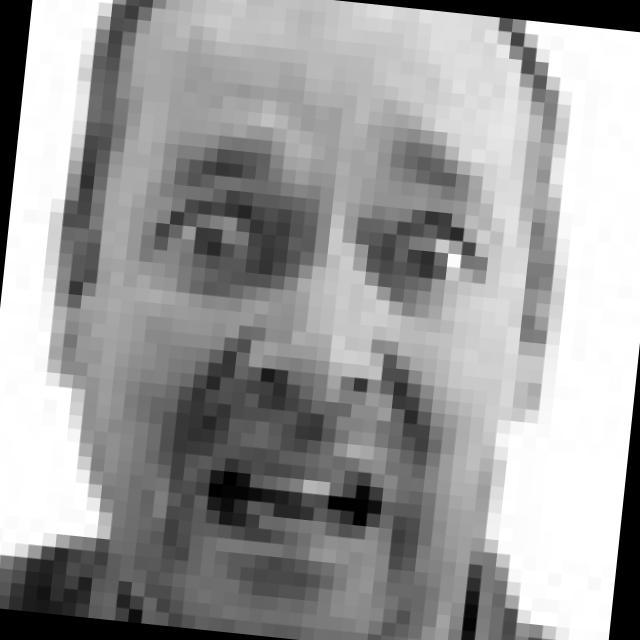fear: (99, 108, 512, 618)
